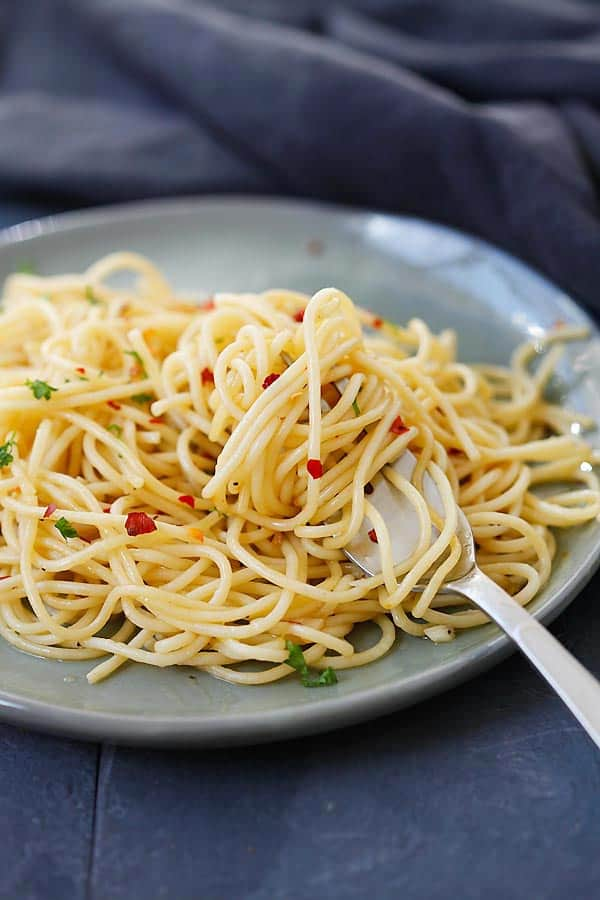plain spaghetti: (59, 324, 312, 631)
